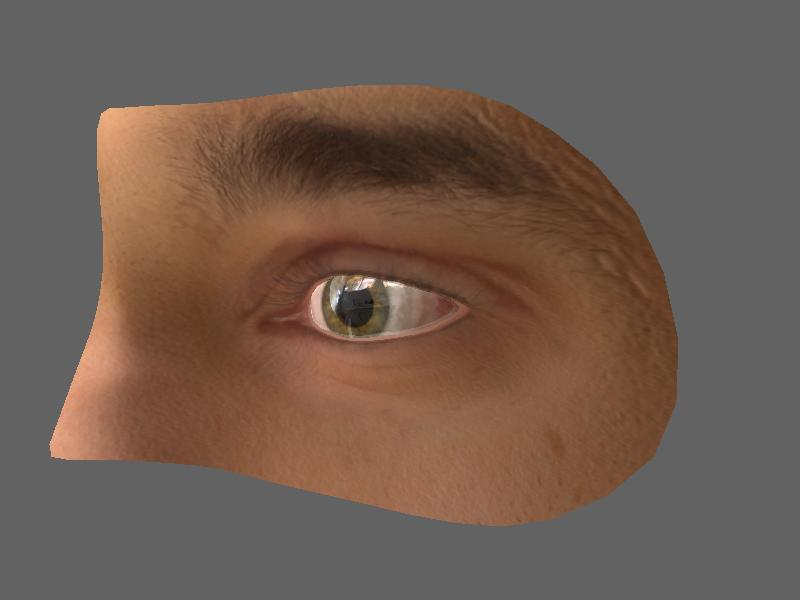iris: (316, 271, 401, 342)
